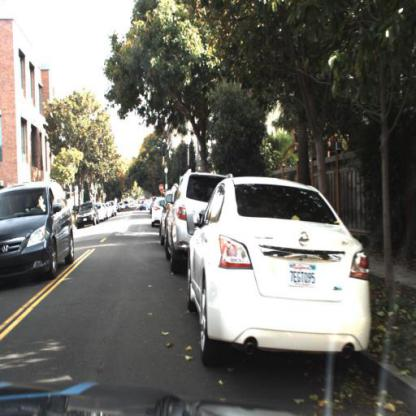car: (187, 178, 373, 370), (1, 182, 77, 281), (167, 171, 207, 273), (76, 200, 100, 231), (152, 196, 168, 228), (94, 201, 106, 223), (140, 198, 153, 214)
